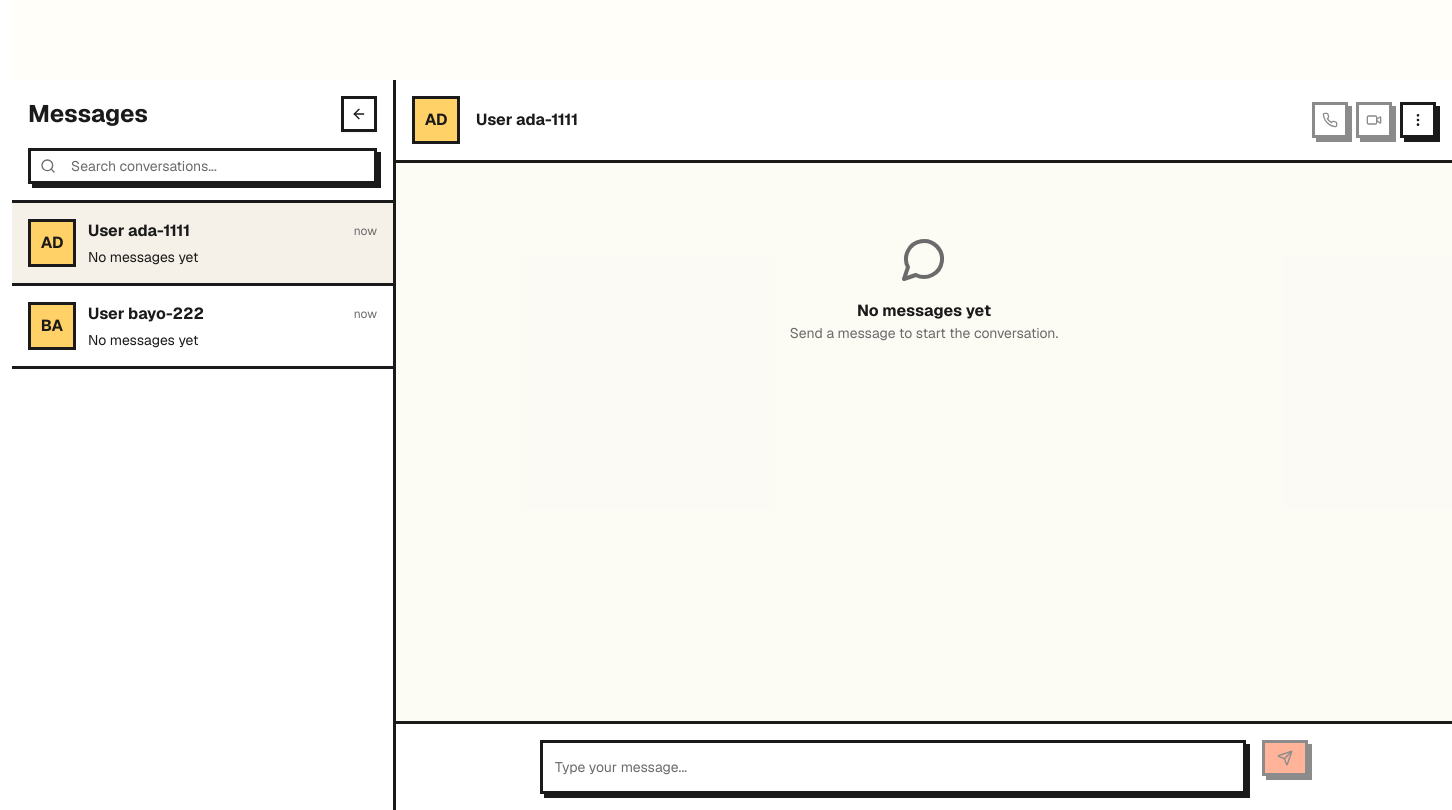
it: MessagesPage › prevents duplicate sends while a message is in flight
Expected: the 1st heading "User ada-1111" is shown, [476,108,578,132]
Type "Test message" into the field with placeholder "Type your message..." at (893, 767), box [540,740,1246,794]
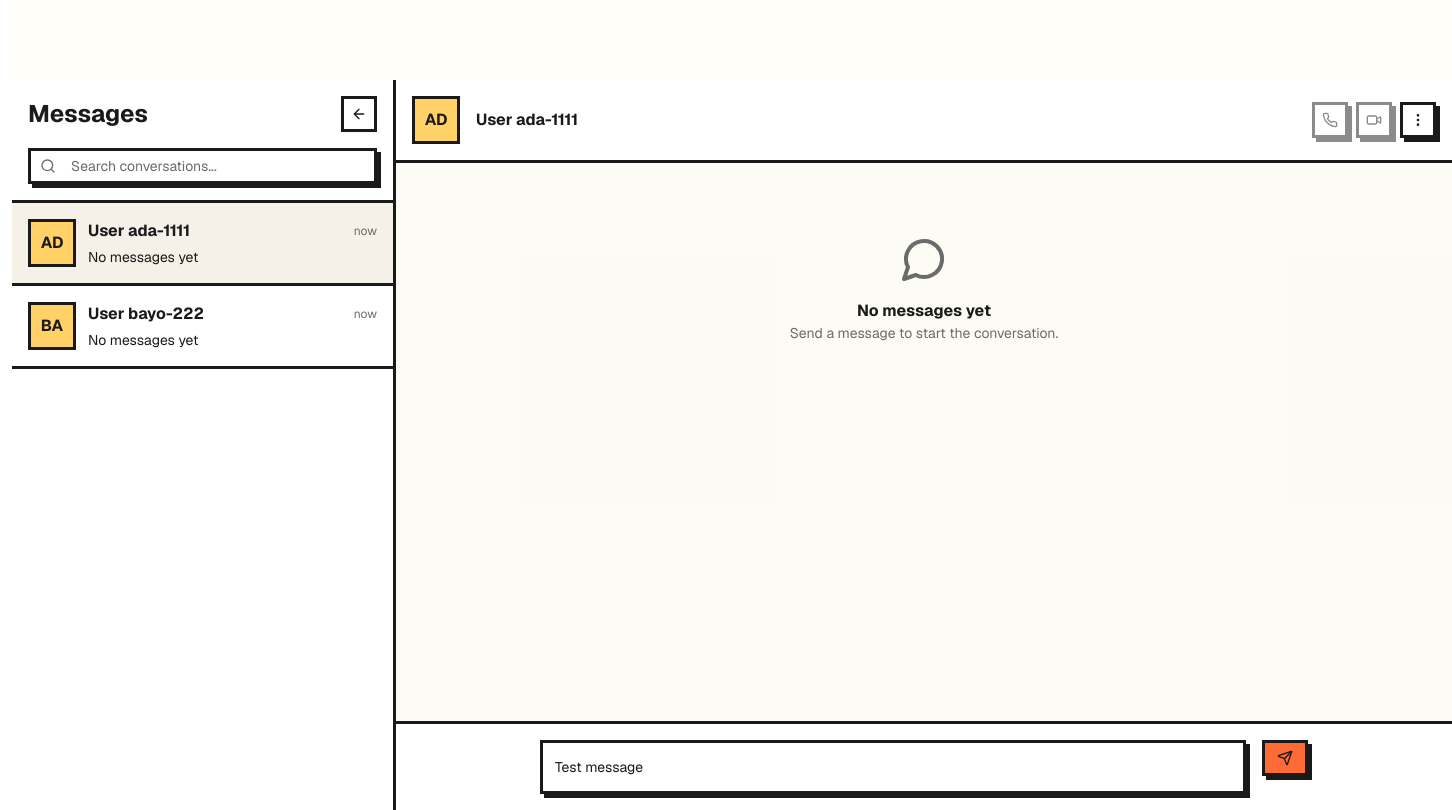
Click the button named "Send message" at (1285, 758), box [1262,740,1308,776]
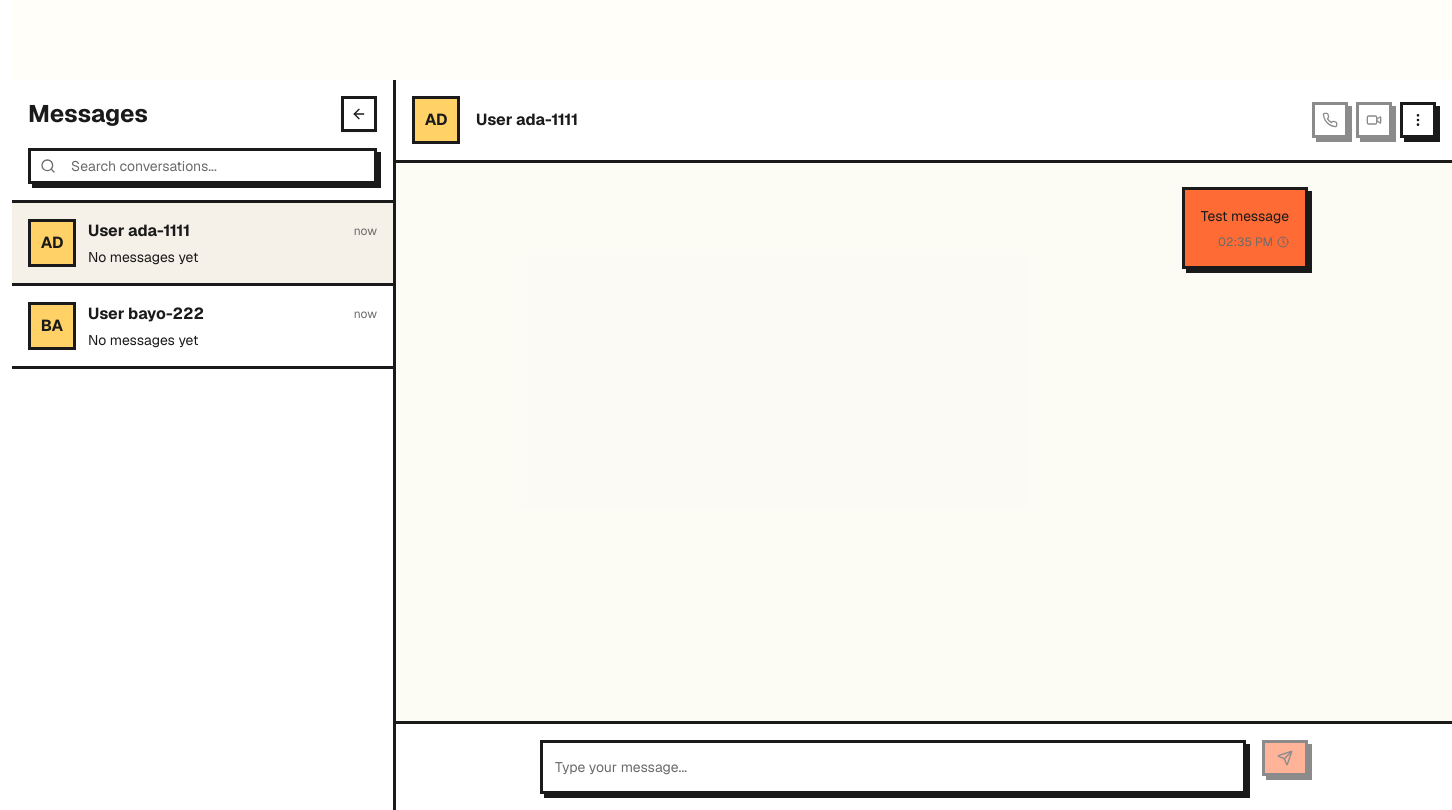
Expected: the button named "Sending message" is disabled, [1262,740,1308,776]
